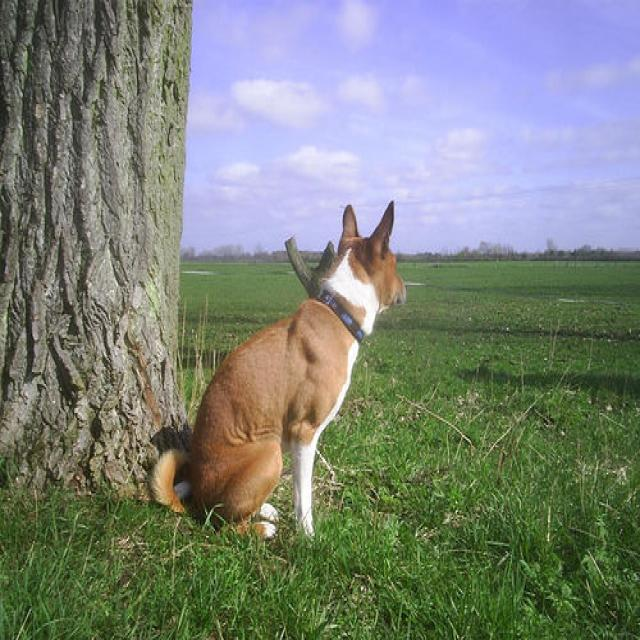dog: (147, 203, 405, 539)
